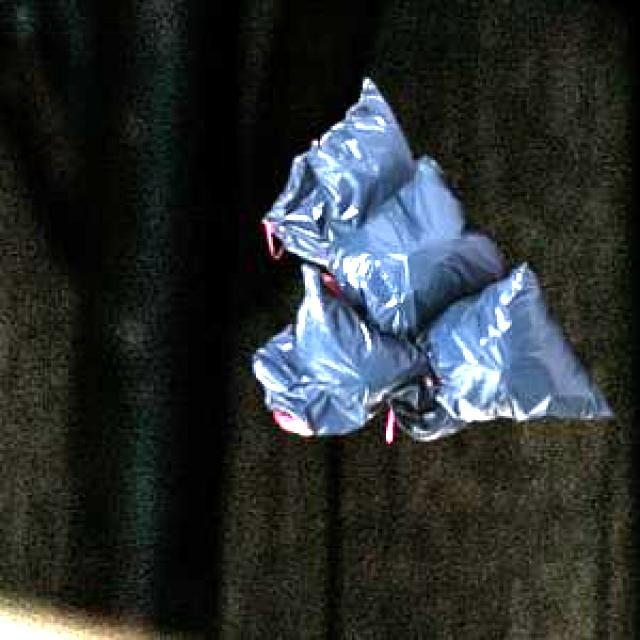Garbage_Bag: (250, 76, 612, 438)
